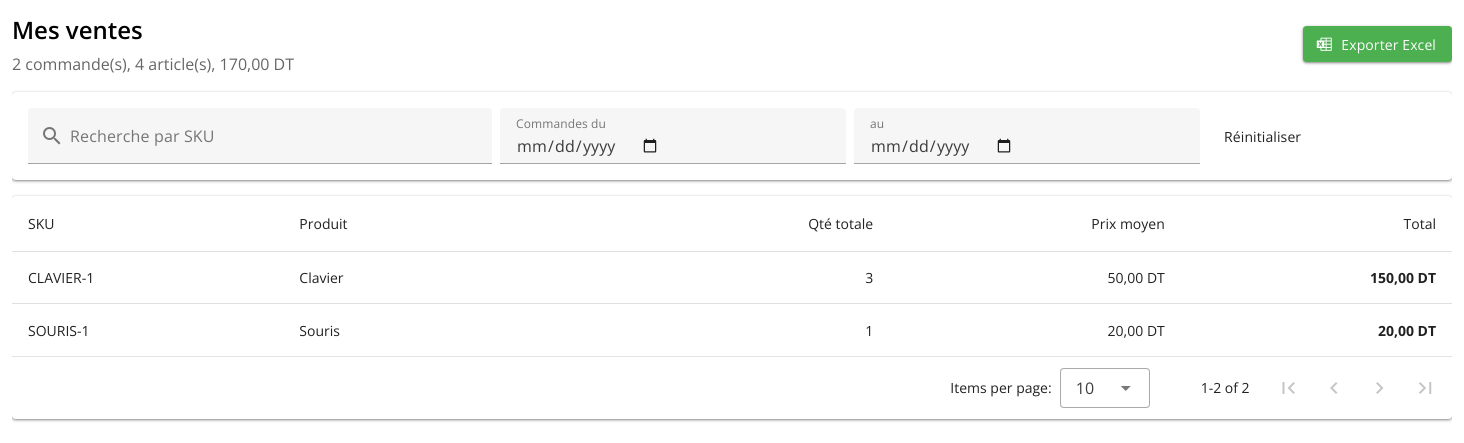
Historique des ventes › invite à corriger une plage de dates inversée sans interroger l'API
Type "2026-09-15" into the date field labelled "Commandes du".
click(673, 136); type("2026-09-15")  # box [500, 108, 846, 164]
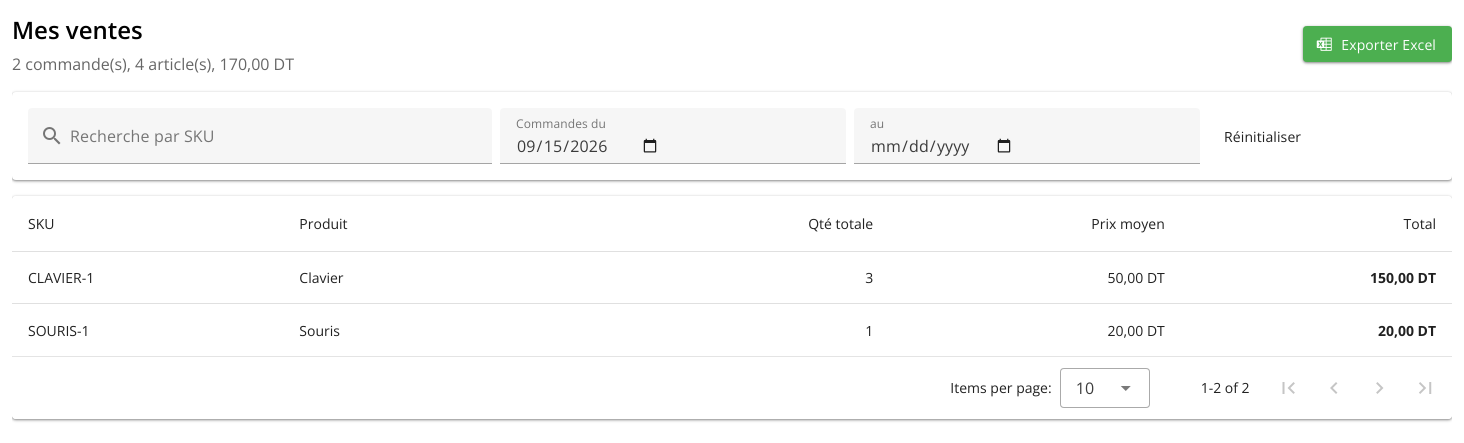
Type "2026-09-01" into the date field labelled "au".
click(1027, 136); type("2026-09-01")  # box [854, 108, 1200, 164]
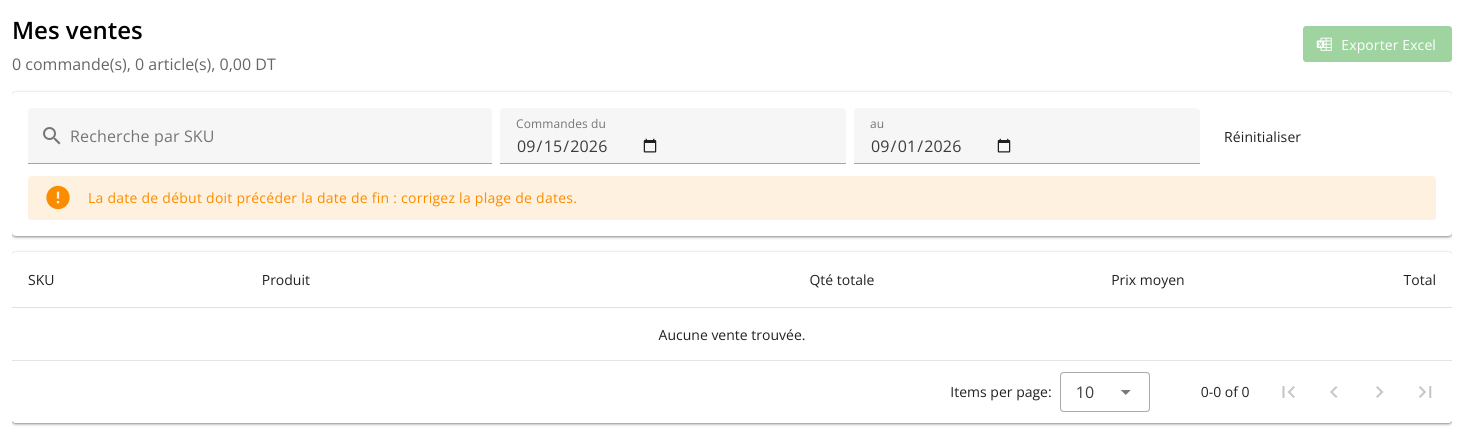
Expected: the message with test id "range-error" shows "corrigez la plage de dates", [88, 188, 577, 207]
